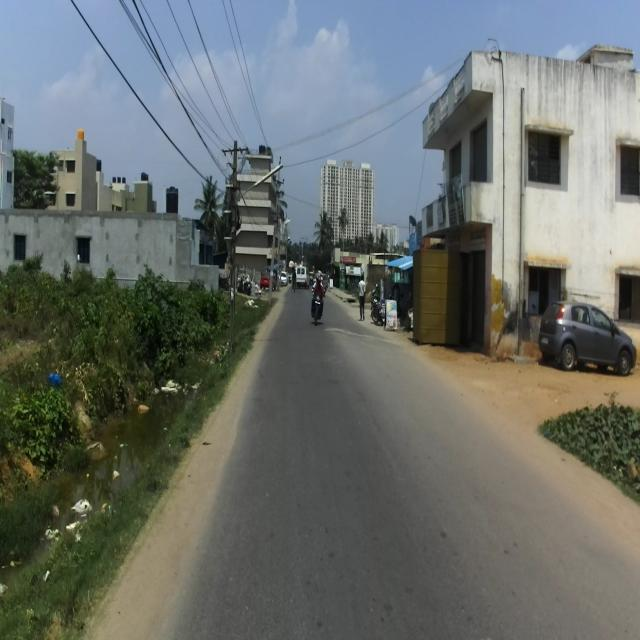Car_Fiat: (538, 299, 637, 376)
motorcycle: (310, 284, 326, 325)
